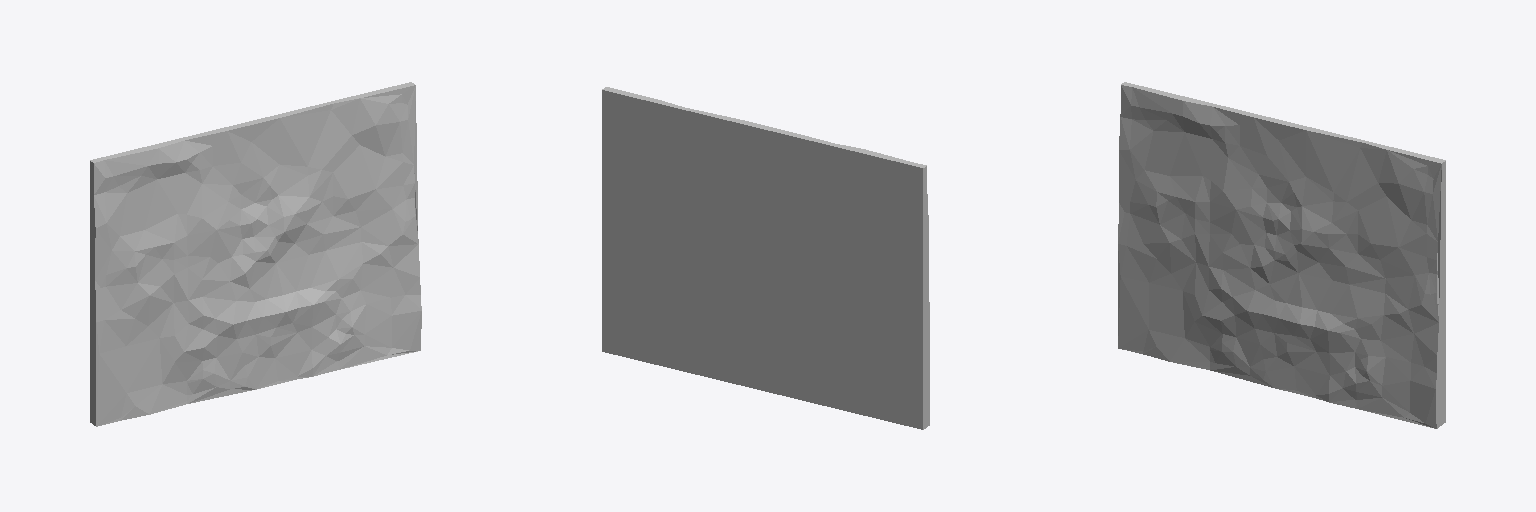
Rendered from Grangegorman_TUDublin_Floor_Thin.obj.
3 renders of one model, left to right at view 1: azimuth 30°, elevation 25°; view 2: azimuth 150°, elevation 25°; view 3: azimuth 330°, elevation 25°, orthographic.
Visible parts, largest first — view 1: ground; view 2: ground; view 3: ground.
Part boxes in pixels (x1,y1,x2,y2): ground: (90,82,421,426); ground: (602,87,929,429); ground: (1118,82,1445,428).
Size of the model in its own units: 80.69 by 62.76 by 4.72.